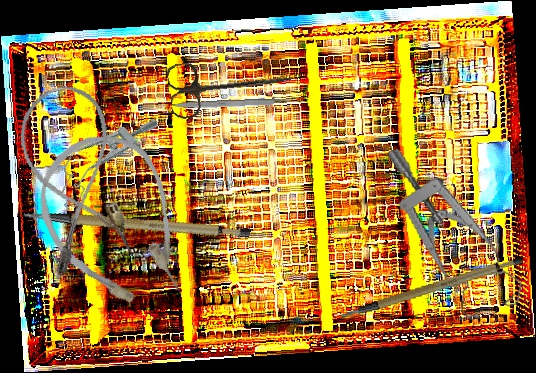Cannula: (19, 116, 209, 333), (10, 78, 137, 277)
Iris Scissors: (165, 48, 296, 121)
Scalpel Handle: (23, 175, 252, 268), (335, 253, 527, 319), (170, 97, 292, 111)
Speculum: (385, 130, 527, 331), (40, 98, 166, 213)
